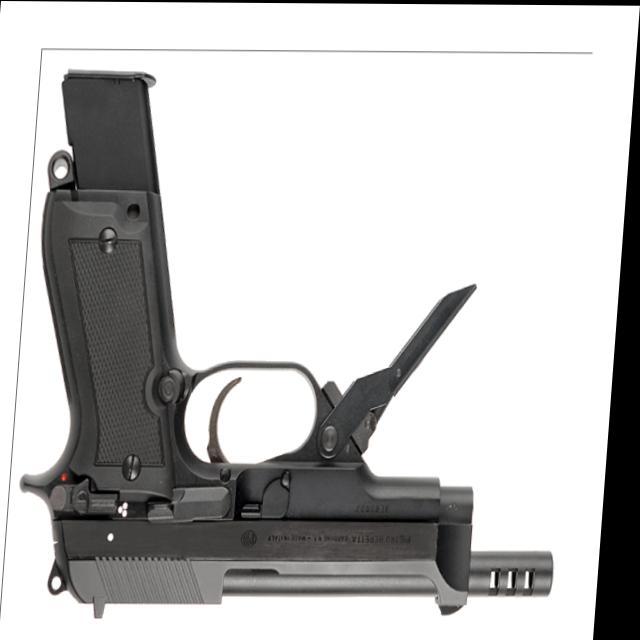handgun: (16, 62, 592, 615)
